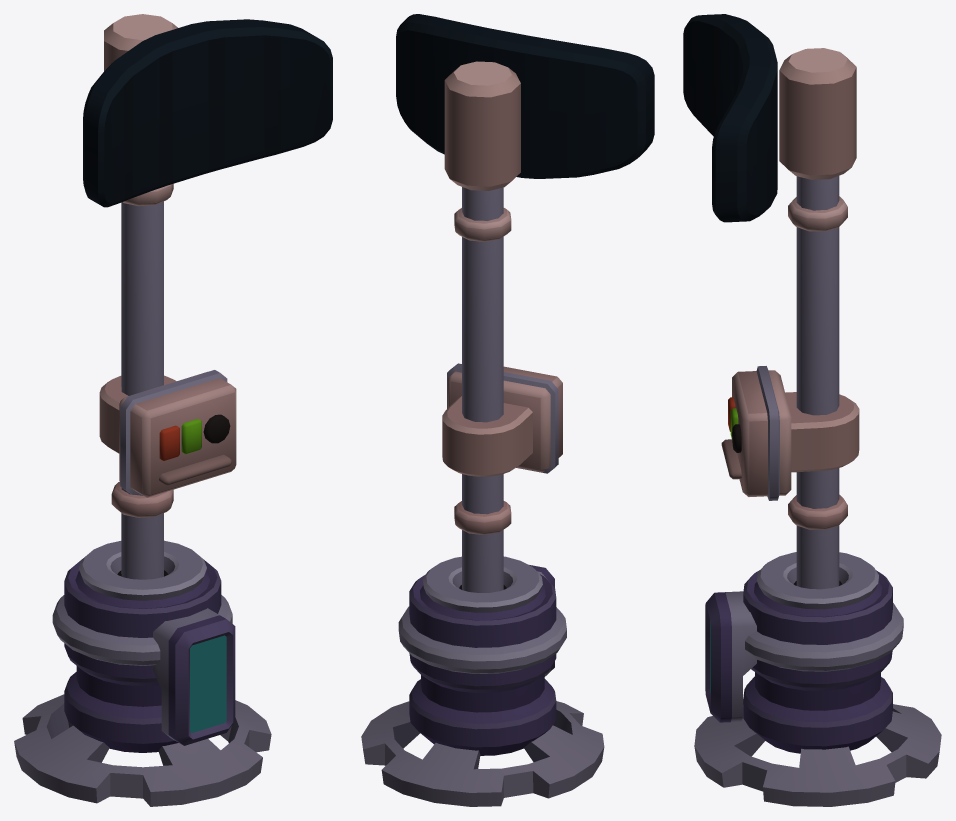
File: Ufo_Stand_01.fbx
3 renders of one model, left to right at view 1: azimuth 30°, elevation 25°; view 2: azimuth 150°, elevation 25°; view 3: azimuth 270°, elevation 25°, orthographic. The views are drawn at different scales.
Visible parts, largest first — view 1: Ufo_Stand_01; view 2: Ufo_Stand_01; view 3: Ufo_Stand_01.
Part boxes in pixels (<box>): Ufo_Stand_01: <box>14,14,332,806</box>; Ufo_Stand_01: <box>361,14,654,806</box>; Ufo_Stand_01: <box>683,14,941,806</box>.
Bounding box in the file's own units: 0.5444 × 1.53 × 0.5039.
